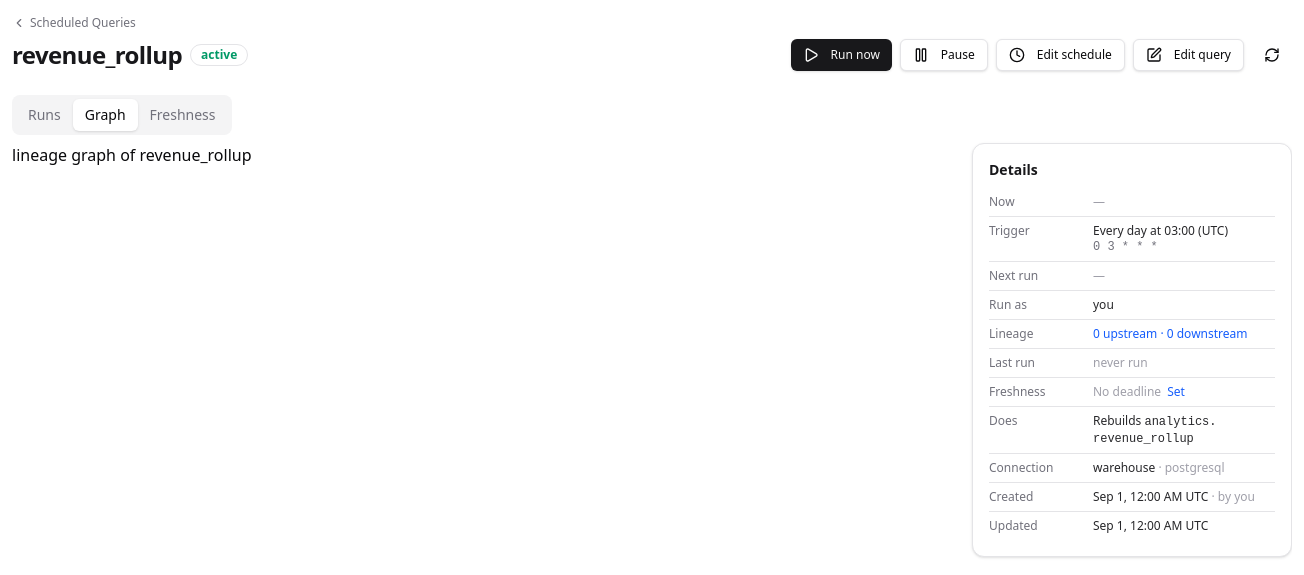
Test case: per-model schedule page › opens on the graph when the address says so, and Runs takes the tab back out of it
This screenshot has width=1304, height=575.
Expected: the text "lineage graph of revenue_rollup" is shown, [12, 144, 252, 166]
Click the tab "Runs" at (44, 115), box [16, 99, 73, 131]
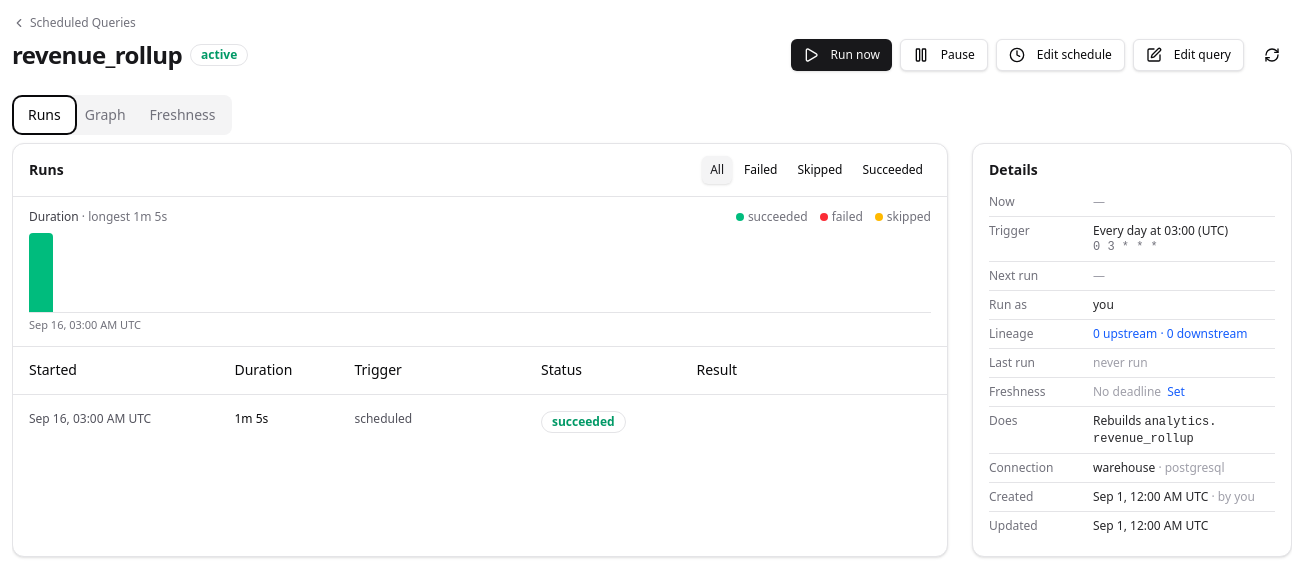
Result: the table is shown at [13, 346, 947, 449]
